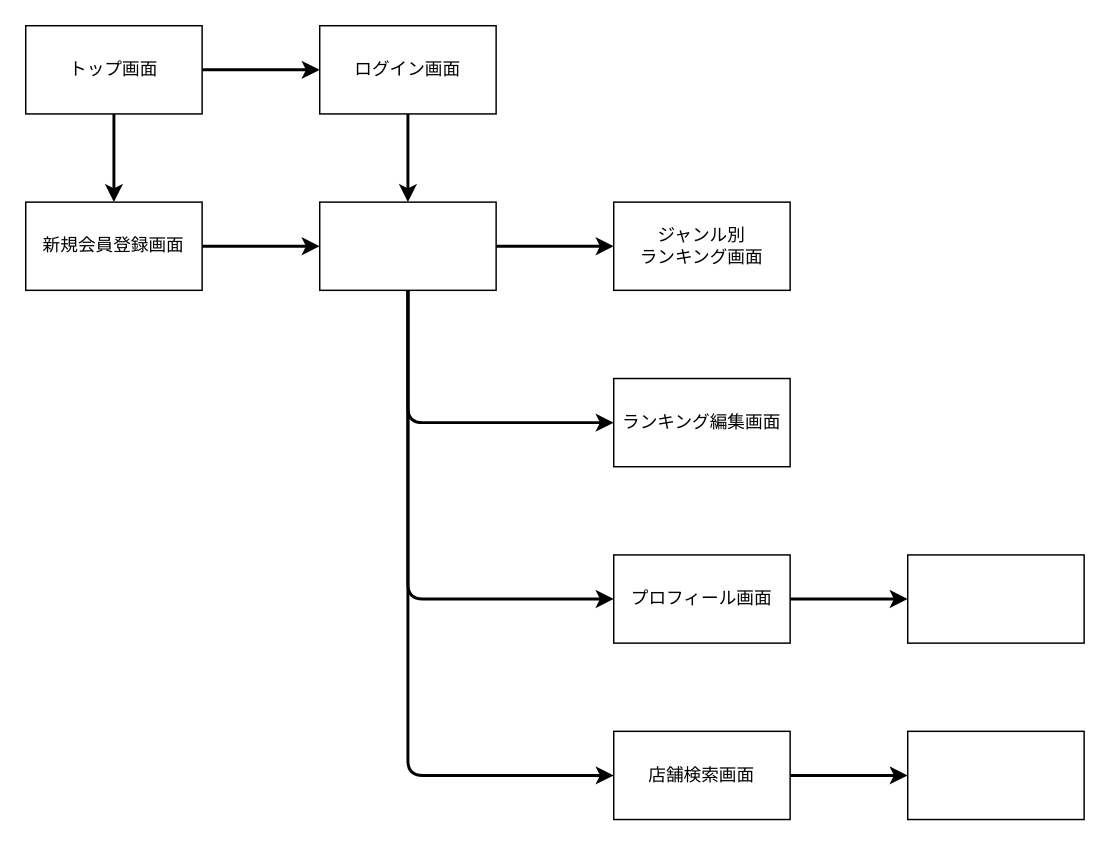
Image size: 1110x845. Some labels were removed from this diagram. The centre of each missing label's shape, as x and y in pixels:
"Myランキング画面" goes at [407,245].
"プロフィール編集画面" goes at [995,598].
"検索結果表示画面" goes at [995,775].
